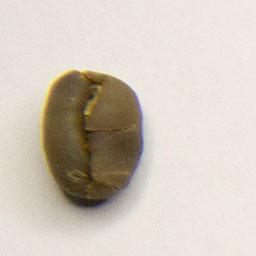peaberry: (39, 67, 149, 205)
